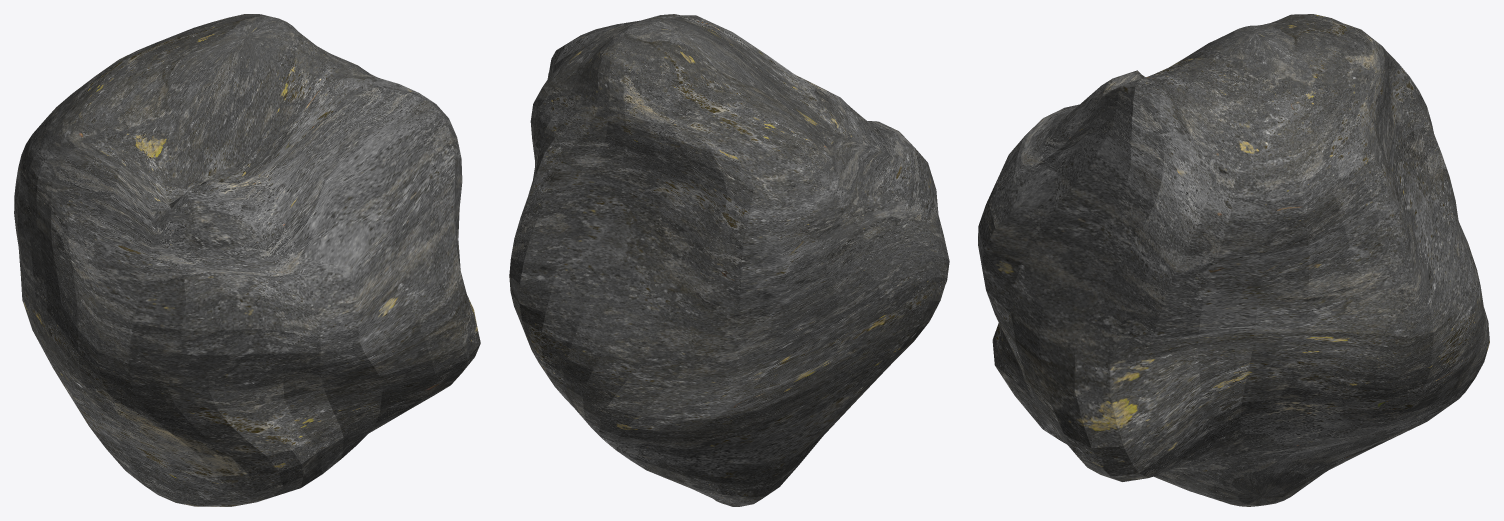
The model's file is SmallAsteroid2.fbx.
3 views of the same model, side by side, from view 1: azimuth 30°, elevation 25°; view 2: azimuth 150°, elevation 25°; view 3: azimuth 270°, elevation 25° (orthographic). The views are drawn at different scales.
Parts seen in each view (by area): view 1: Sphere; view 2: Sphere; view 3: Sphere.
Part boxes in pixels (bbox=[...]): Sphere: bbox=[14, 14, 480, 506]; Sphere: bbox=[509, 14, 949, 506]; Sphere: bbox=[978, 14, 1489, 506].
Bounding box in the file's own units: 31.16 × 34.52 × 31.6.
1 material, 1 textured.
